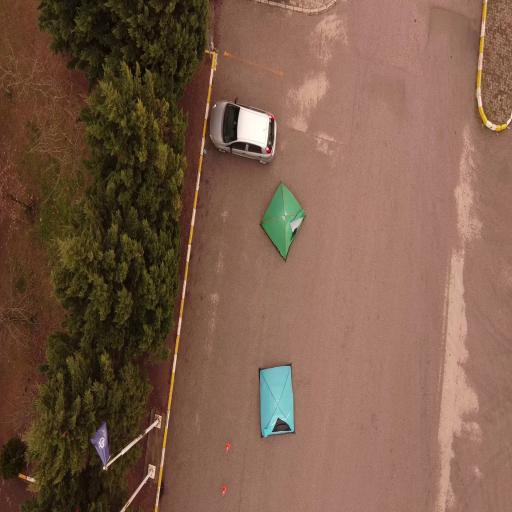tent: (257, 176, 308, 266), (254, 358, 298, 448)
